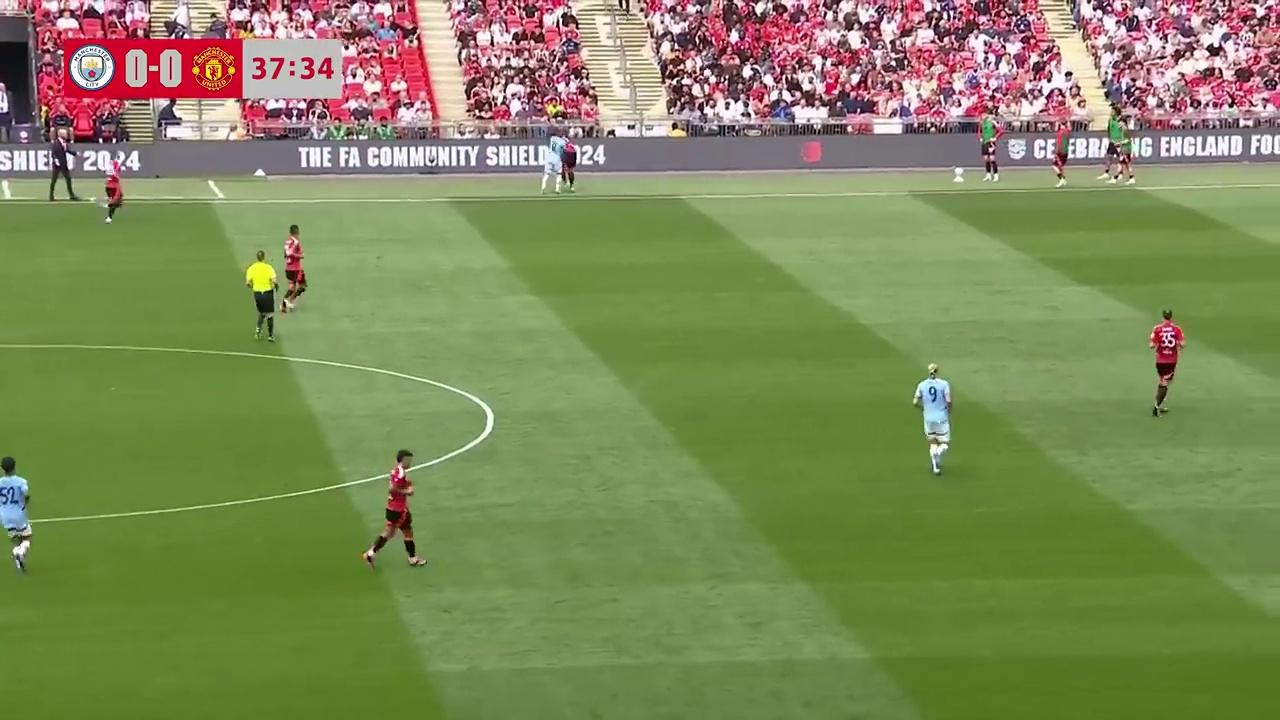player: (361, 449, 427, 571), (912, 363, 952, 474), (1149, 309, 1185, 416), (0, 456, 32, 573), (281, 223, 307, 313), (538, 136, 564, 194), (553, 139, 582, 191), (103, 160, 124, 222)
referee: (242, 249, 280, 342)
